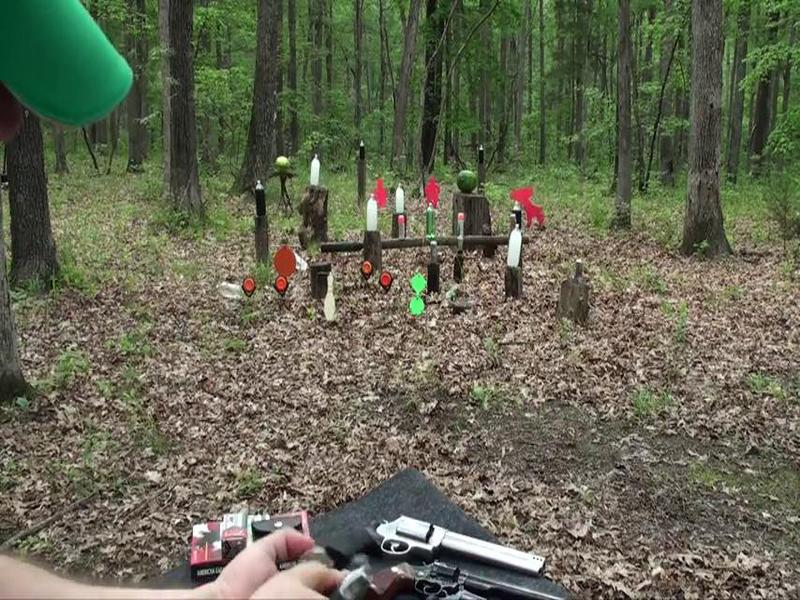Revolver: (288, 495, 558, 583)
